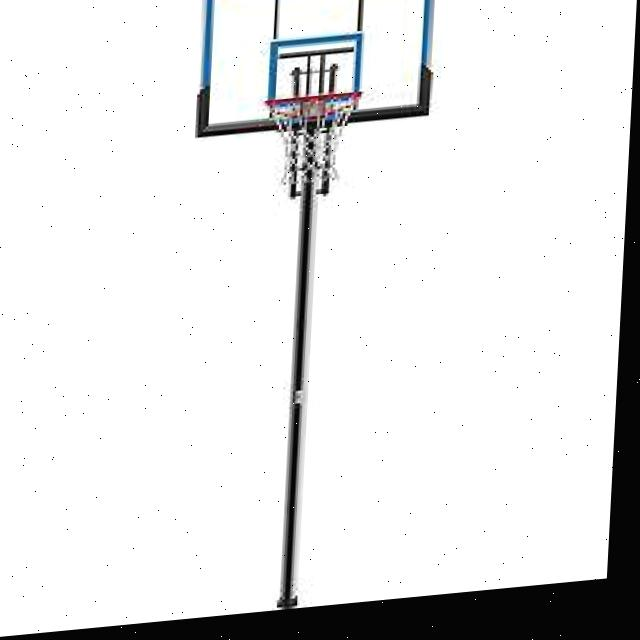hoop: (258, 89, 361, 188)
